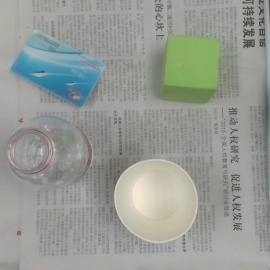bottle: (8, 118, 94, 192)
card: (12, 28, 106, 108)
cup: (114, 159, 198, 243)
